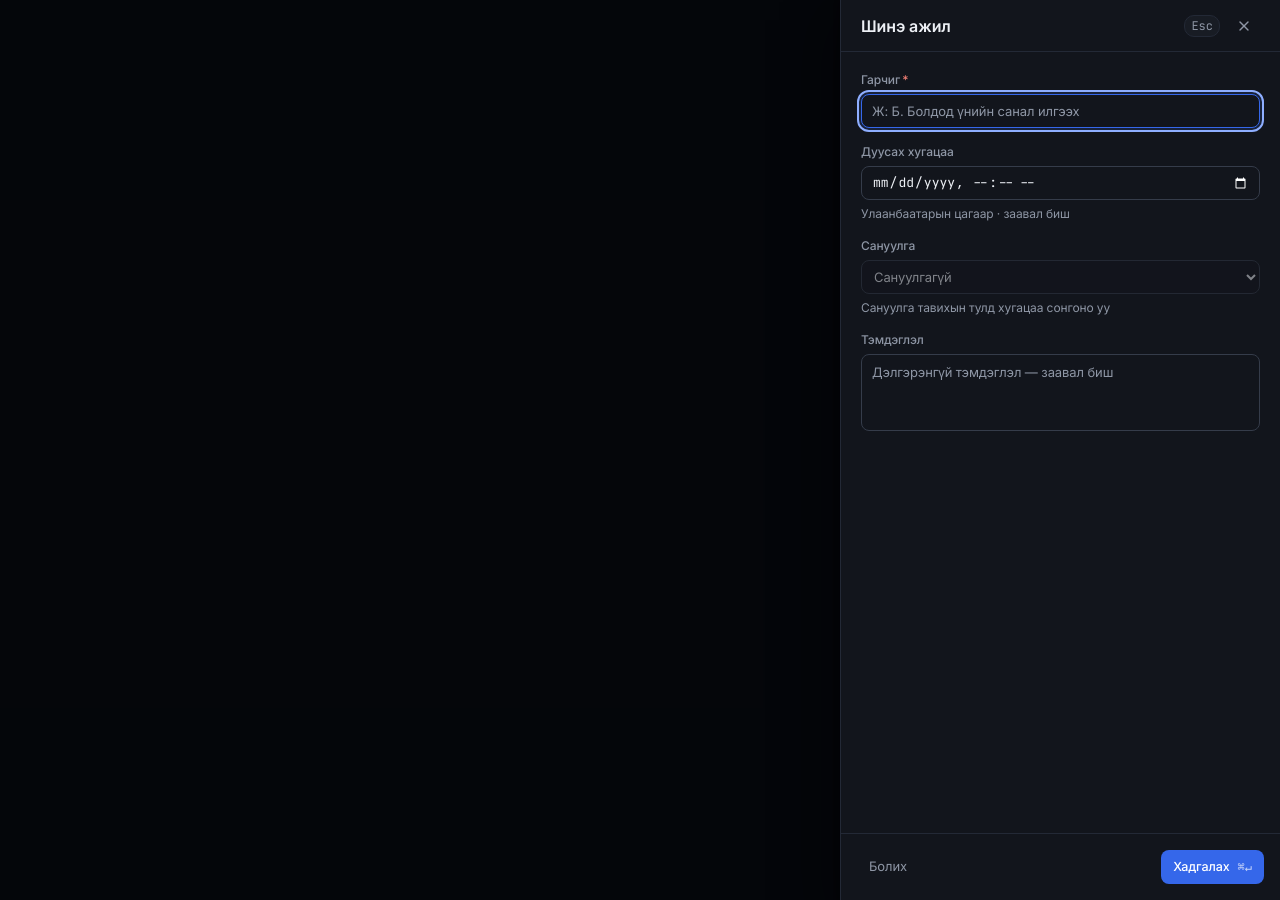
Scenario: «Ажил нэмэх» quick create › shows an inline error instead of posting an empty title
The width and height of the screenshot is (1280, 900).
Click the button "Хадгалах ⌘↵": x=1213, y=867 left=1161, top=850, right=1264, bottom=884
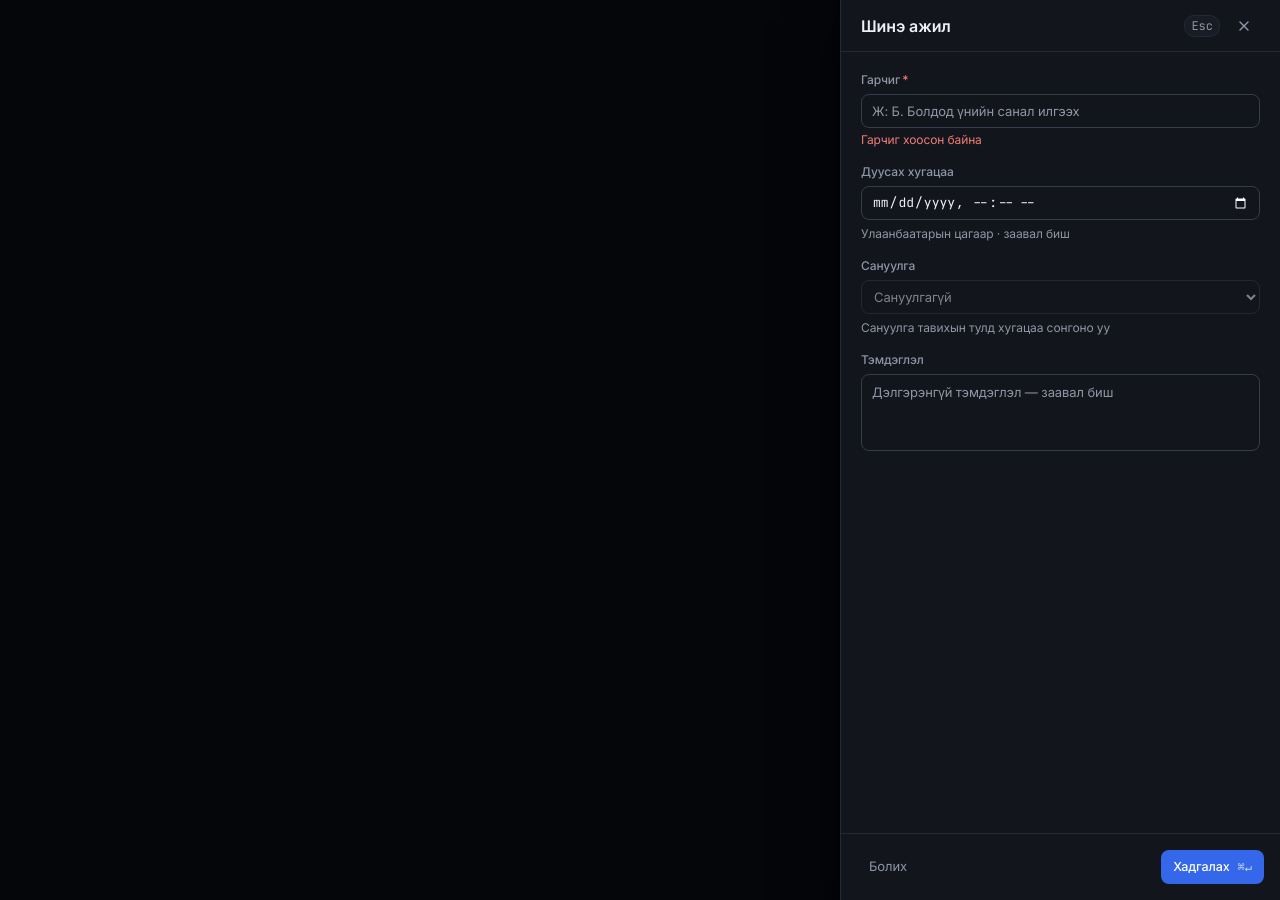
Now the message reads "Гарчиг хоосон байна", box left=861, top=132, right=982, bottom=147
